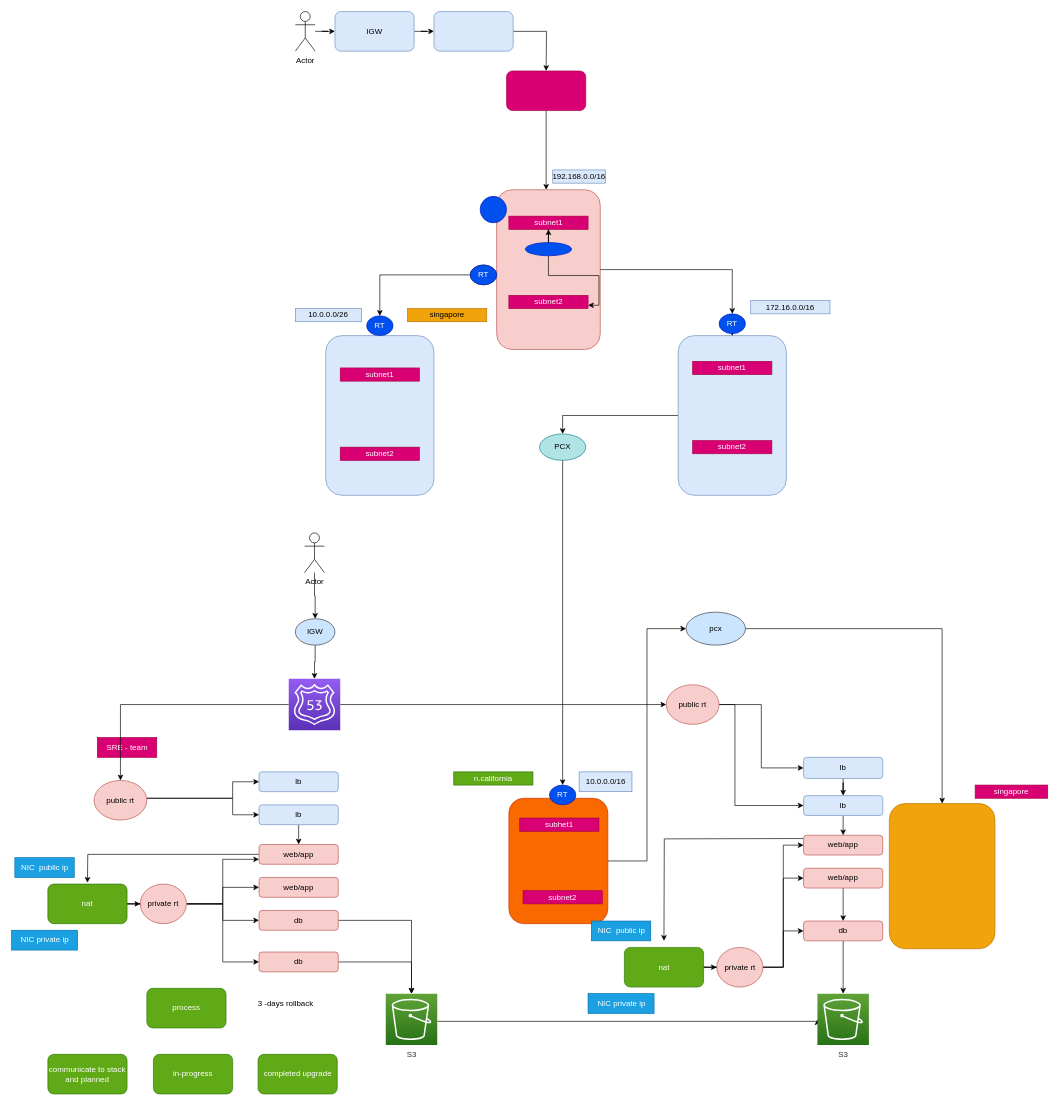
Some shapes in this 1059 by 1106 pixel diagram are drawn without their labels. The shapes that lost their labels are listed below. From the top down, each one's box as (x1, y1, x2, y2) in pixels, then its label:
(433, 11, 513, 51): VPN
(506, 70, 586, 111): TGW
(479, 196, 507, 223): SG
(496, 189, 600, 349): SG DC
(525, 242, 572, 256): NACL
(325, 335, 434, 495): DEV
(677, 335, 786, 495): QA
(508, 798, 608, 924): PROD
(889, 803, 995, 949): DR
